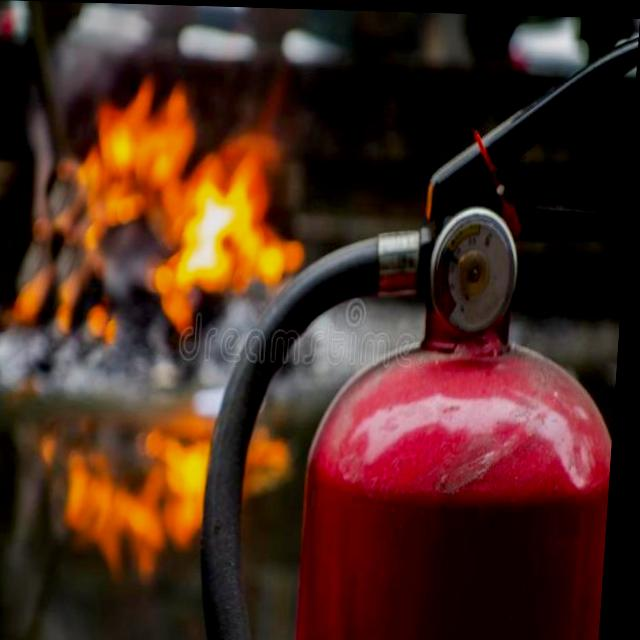FireExtinguisher: (197, 16, 639, 640)
